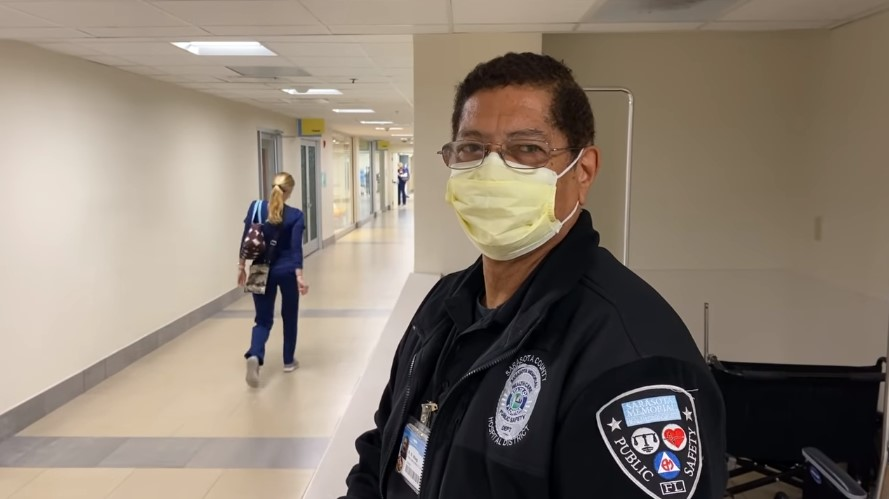face_with_mask: (439, 51, 600, 261)
